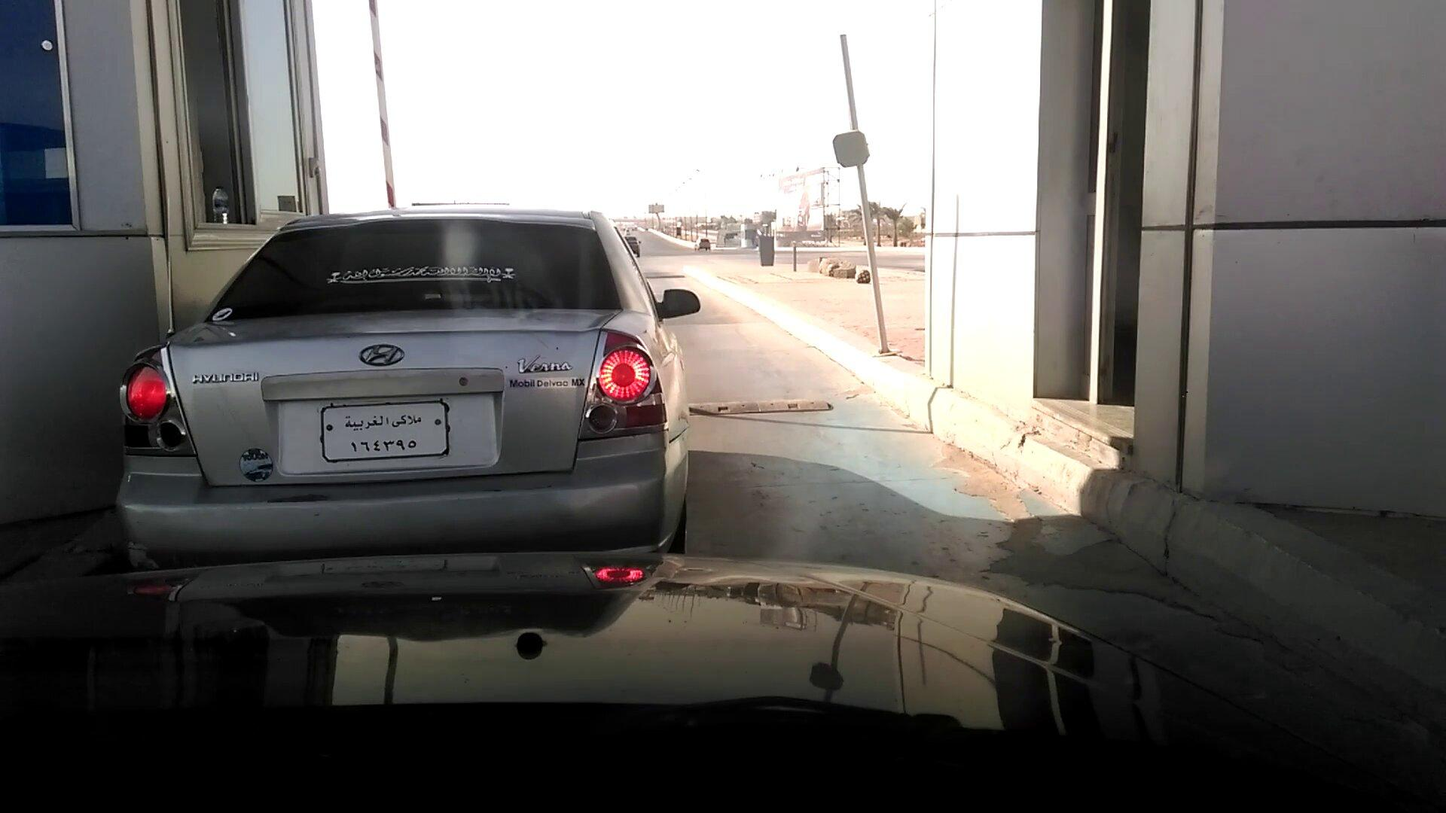Bump: (684, 400, 836, 417)
